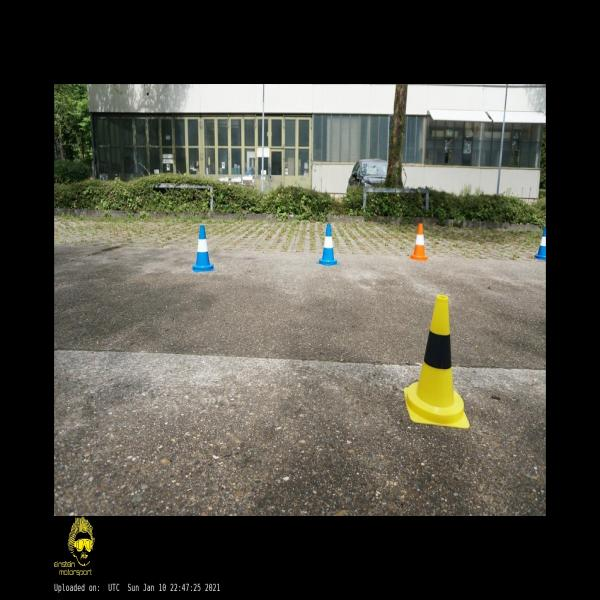blue_cone: (192, 226, 214, 272), (316, 224, 339, 266), (534, 227, 546, 260)
orange_cone: (410, 224, 428, 261)
yellow_cone: (404, 294, 469, 429)
